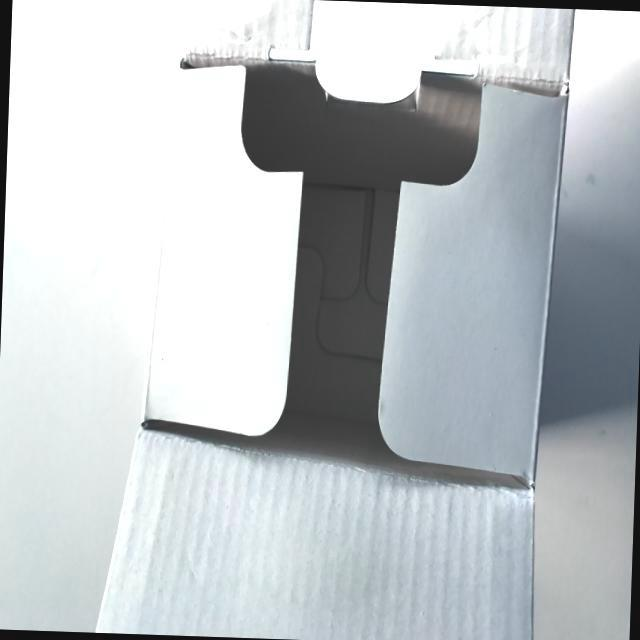cardboard: (57, 0, 598, 640)
